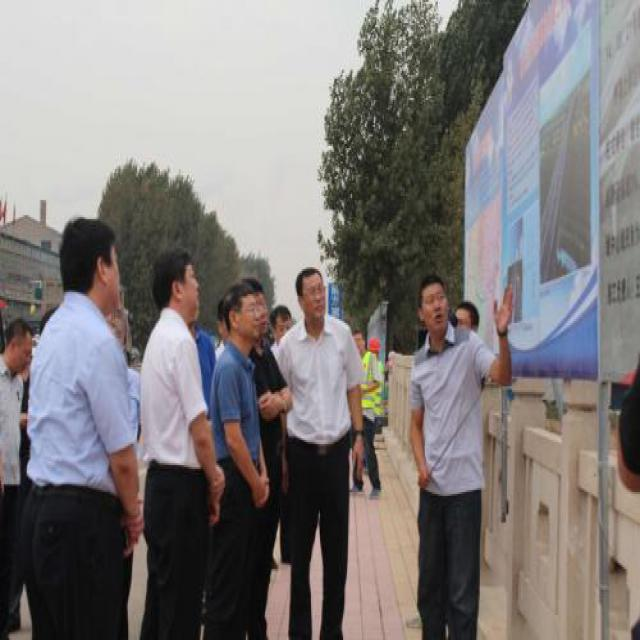head: (57, 214, 120, 320), (151, 243, 203, 324), (220, 274, 256, 347), (413, 270, 450, 337), (294, 259, 329, 328), (253, 270, 270, 353), (454, 295, 479, 347), (271, 303, 295, 353)
person: (15, 205, 145, 640), (397, 271, 517, 640), (272, 264, 375, 638), (136, 236, 230, 637), (212, 281, 281, 640)
